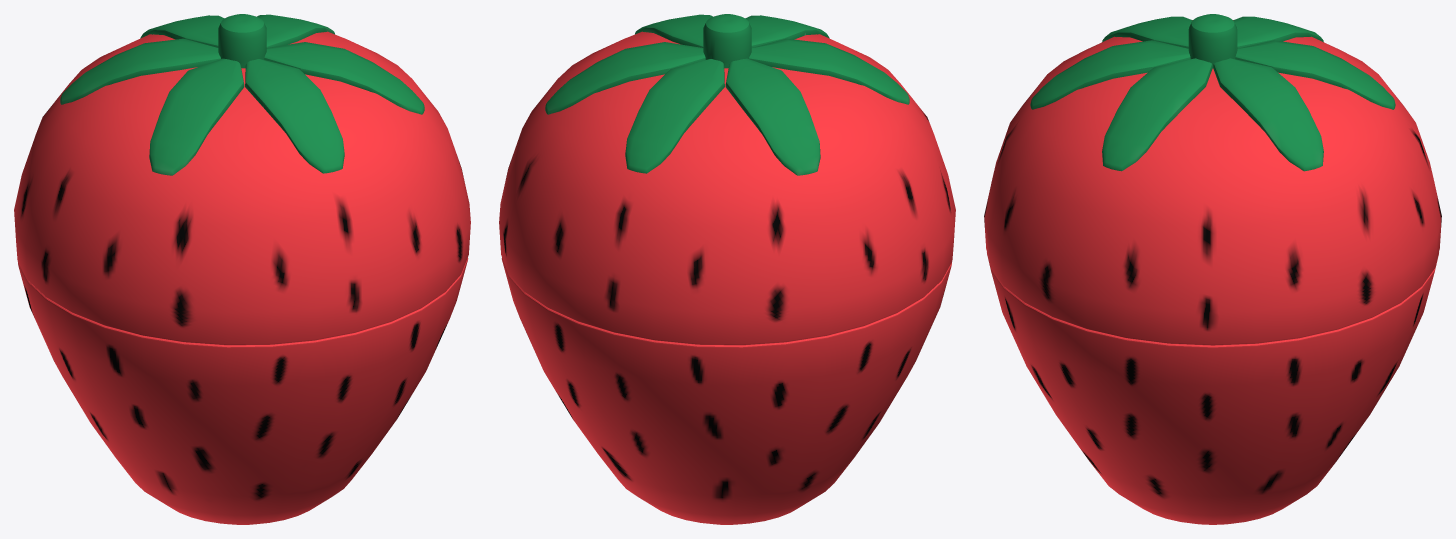
The model's file is StrawberryToy.fbx.
3 views of the same model, side by side, from view 1: azimuth 30°, elevation 25°; view 2: azimuth 150°, elevation 25°; view 3: azimuth 270°, elevation 25° (orthographic).
Visible parts, largest first — view 1: Strawberry; view 2: Strawberry; view 3: Strawberry.
Boxes of the visible parts, x1=… form: Strawberry: x1=14, y1=14, x2=470, y2=524; Strawberry: x1=499, y1=14, x2=955, y2=524; Strawberry: x1=984, y1=14, x2=1441, y2=524.
Size of the model in its own units: 1.8 by 2.14 by 1.8.
